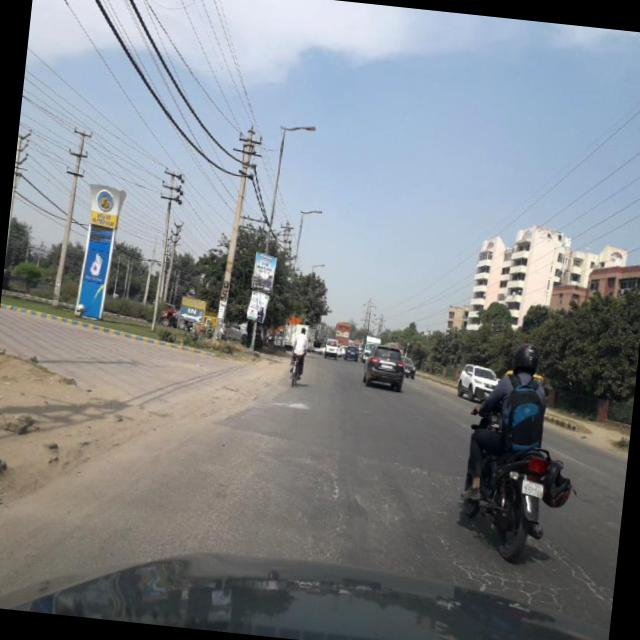crack: (453, 558, 586, 609)
